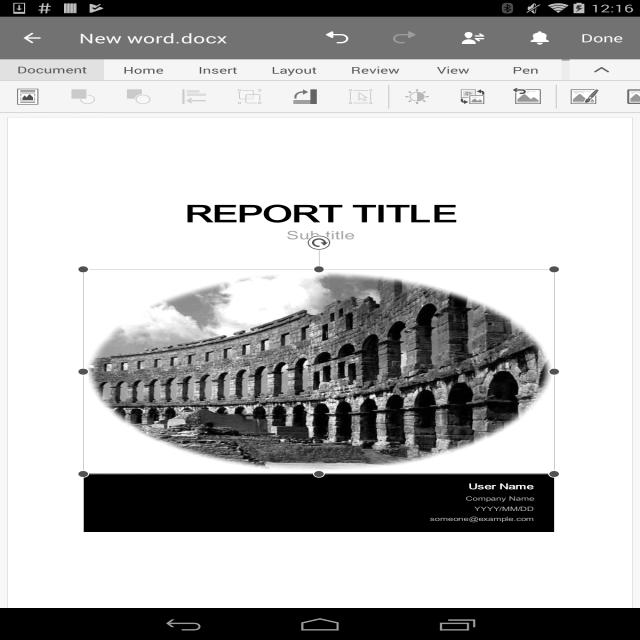CheckBox: (584, 59, 618, 80)
ImageButton: (302, 17, 371, 59), (507, 17, 576, 59), (371, 17, 439, 59), (439, 17, 507, 59), (19, 17, 45, 59)
ImageView: (0, 17, 640, 608), (343, 86, 378, 107), (66, 86, 100, 107), (122, 86, 156, 107), (177, 86, 211, 107), (232, 86, 266, 107), (10, 86, 44, 107), (288, 86, 322, 107), (400, 86, 434, 107), (456, 86, 490, 107), (511, 86, 545, 107), (568, 86, 602, 107), (623, 86, 640, 107)
TextView: (79, 17, 227, 59), (575, 17, 640, 59), (17, 63, 87, 76), (351, 64, 399, 76), (271, 64, 317, 76), (123, 64, 164, 76), (198, 64, 237, 76), (506, 64, 545, 76), (434, 64, 472, 76)
